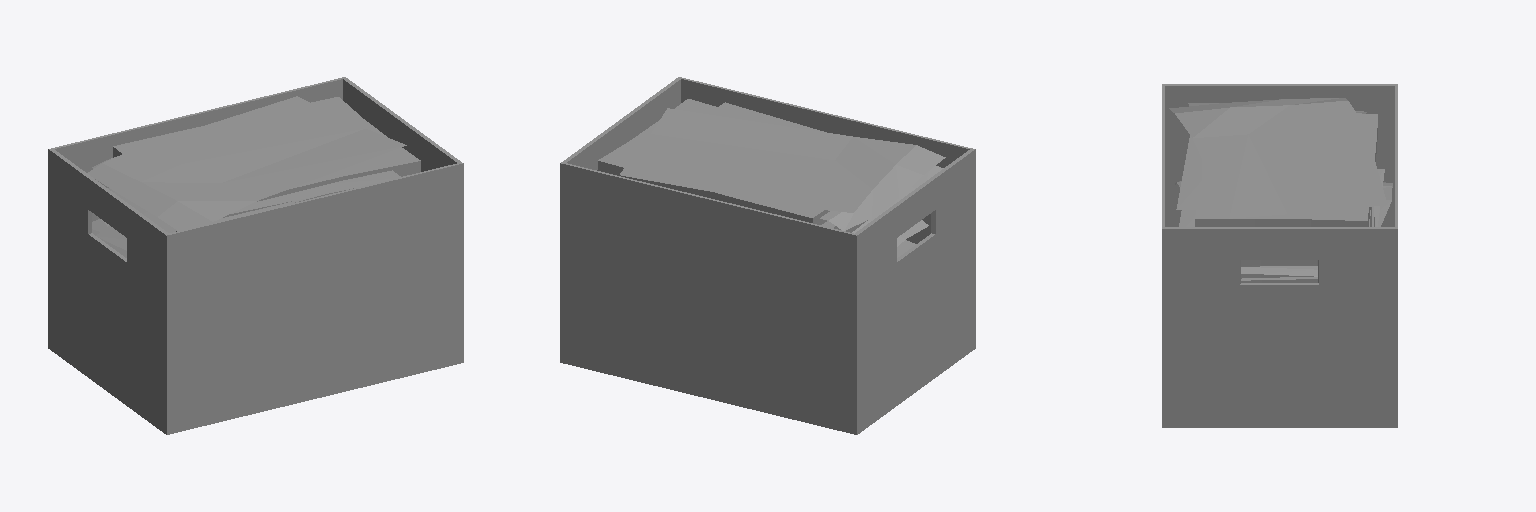
The model's file is origin_box_papers.obj.
The picture shows the model from 3 angles: view 1: azimuth 30°, elevation 25°; view 2: azimuth 150°, elevation 25°; view 3: azimuth 270°, elevation 25°; orthographic projection.
Parts seen in each view (by area): view 1: Box01_Cube.224, PaperStack.005_Cube.027; view 2: Box01_Cube.224, PaperStack.005_Cube.027; view 3: Box01_Cube.224, PaperStack.005_Cube.027.
Part boxes in pixels (x1,y1,x2,y2): Box01_Cube.224: (48, 77, 463, 434); PaperStack.005_Cube.027: (87, 96, 420, 257); Box01_Cube.224: (560, 77, 975, 434); PaperStack.005_Cube.027: (597, 99, 945, 257); Box01_Cube.224: (1162, 84, 1397, 427); PaperStack.005_Cube.027: (1169, 98, 1392, 282).
Size of the model in its own units: 1.77 by 1.14 by 1.22.